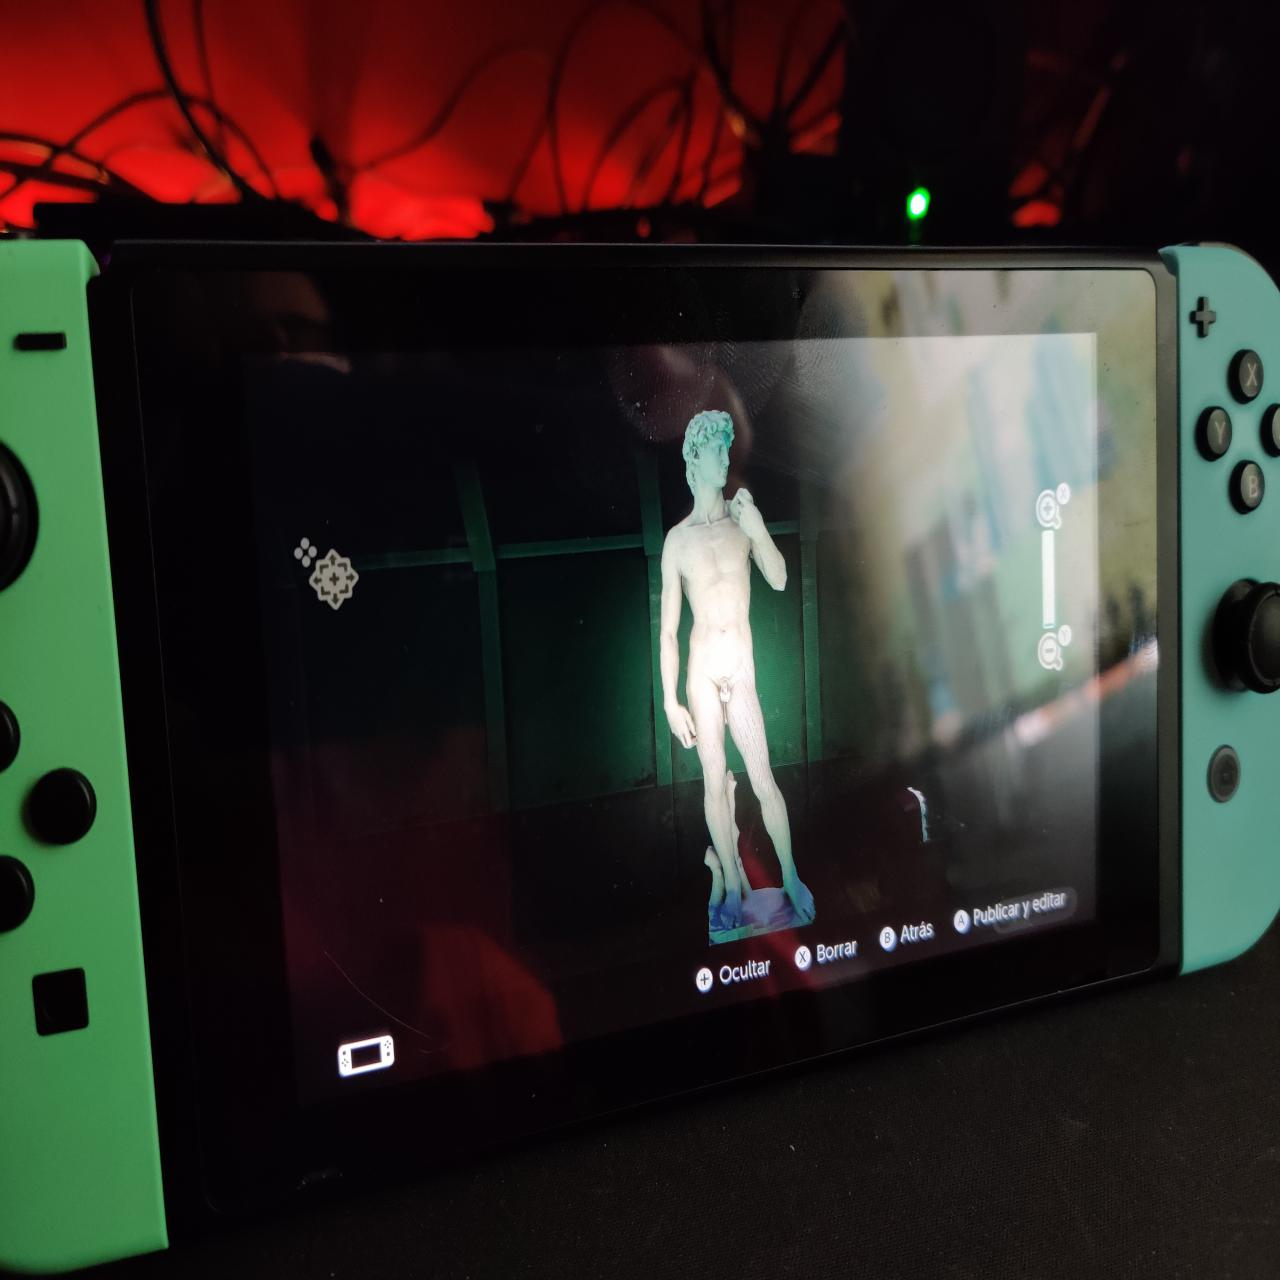David: (663, 404, 821, 948)
